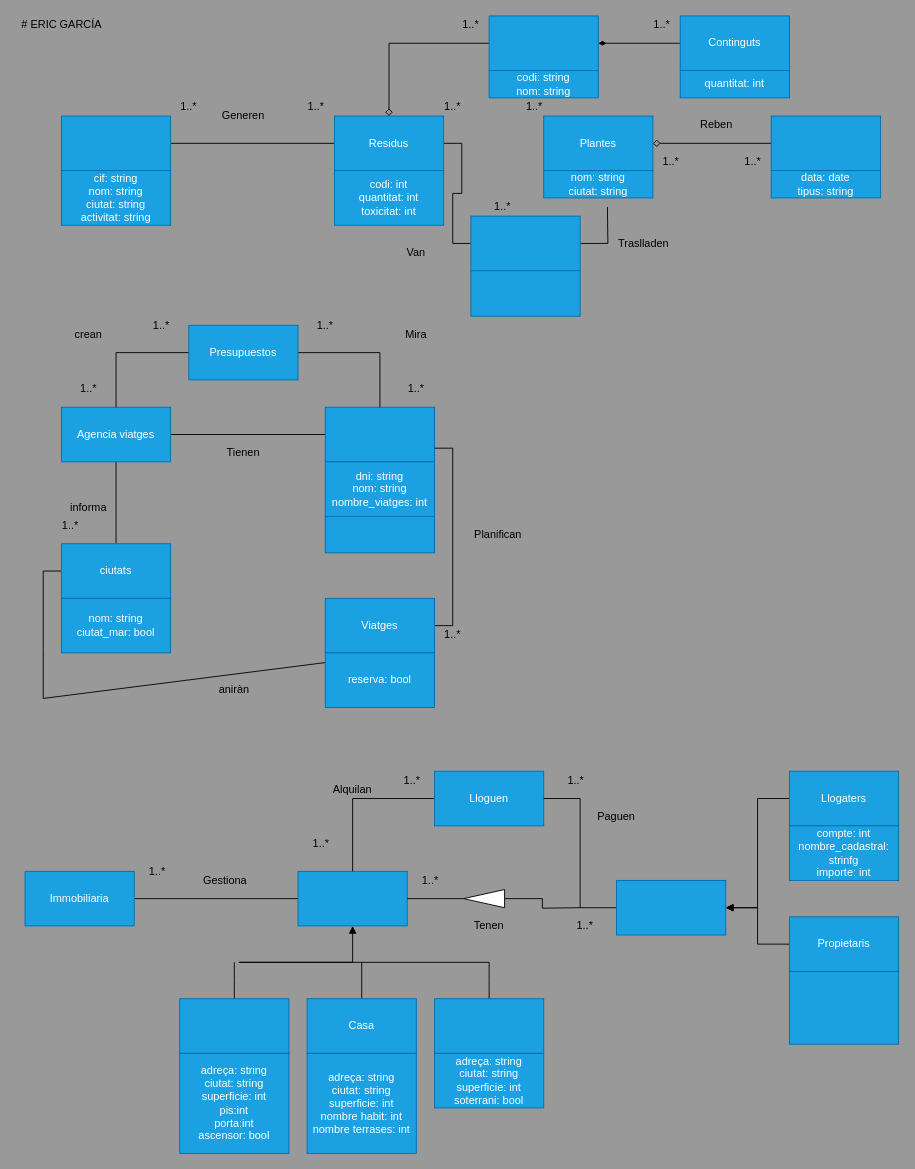
The diagram is 915 pixels wide and 1169 high, and some of its shapes have lost their labels. Each missing label, with the centre of its shape:
Clients: pixel 671 907
Components: pixel 543 43
data: date contenidor: int quantitat: int: pixel 525 293
Departaments: pixel 234 1025
Immobles: pixel 352 898
Industries: pixel 116 143
Locals: pixel 489 1025
nom: string dni: string adreça: string ciutat: string telefon: string: pixel 844 1007
paga_senyal(): pixel 379 534
Persones: pixel 379 434
Tractament: pixel 825 143
Transport: pixel 525 243
